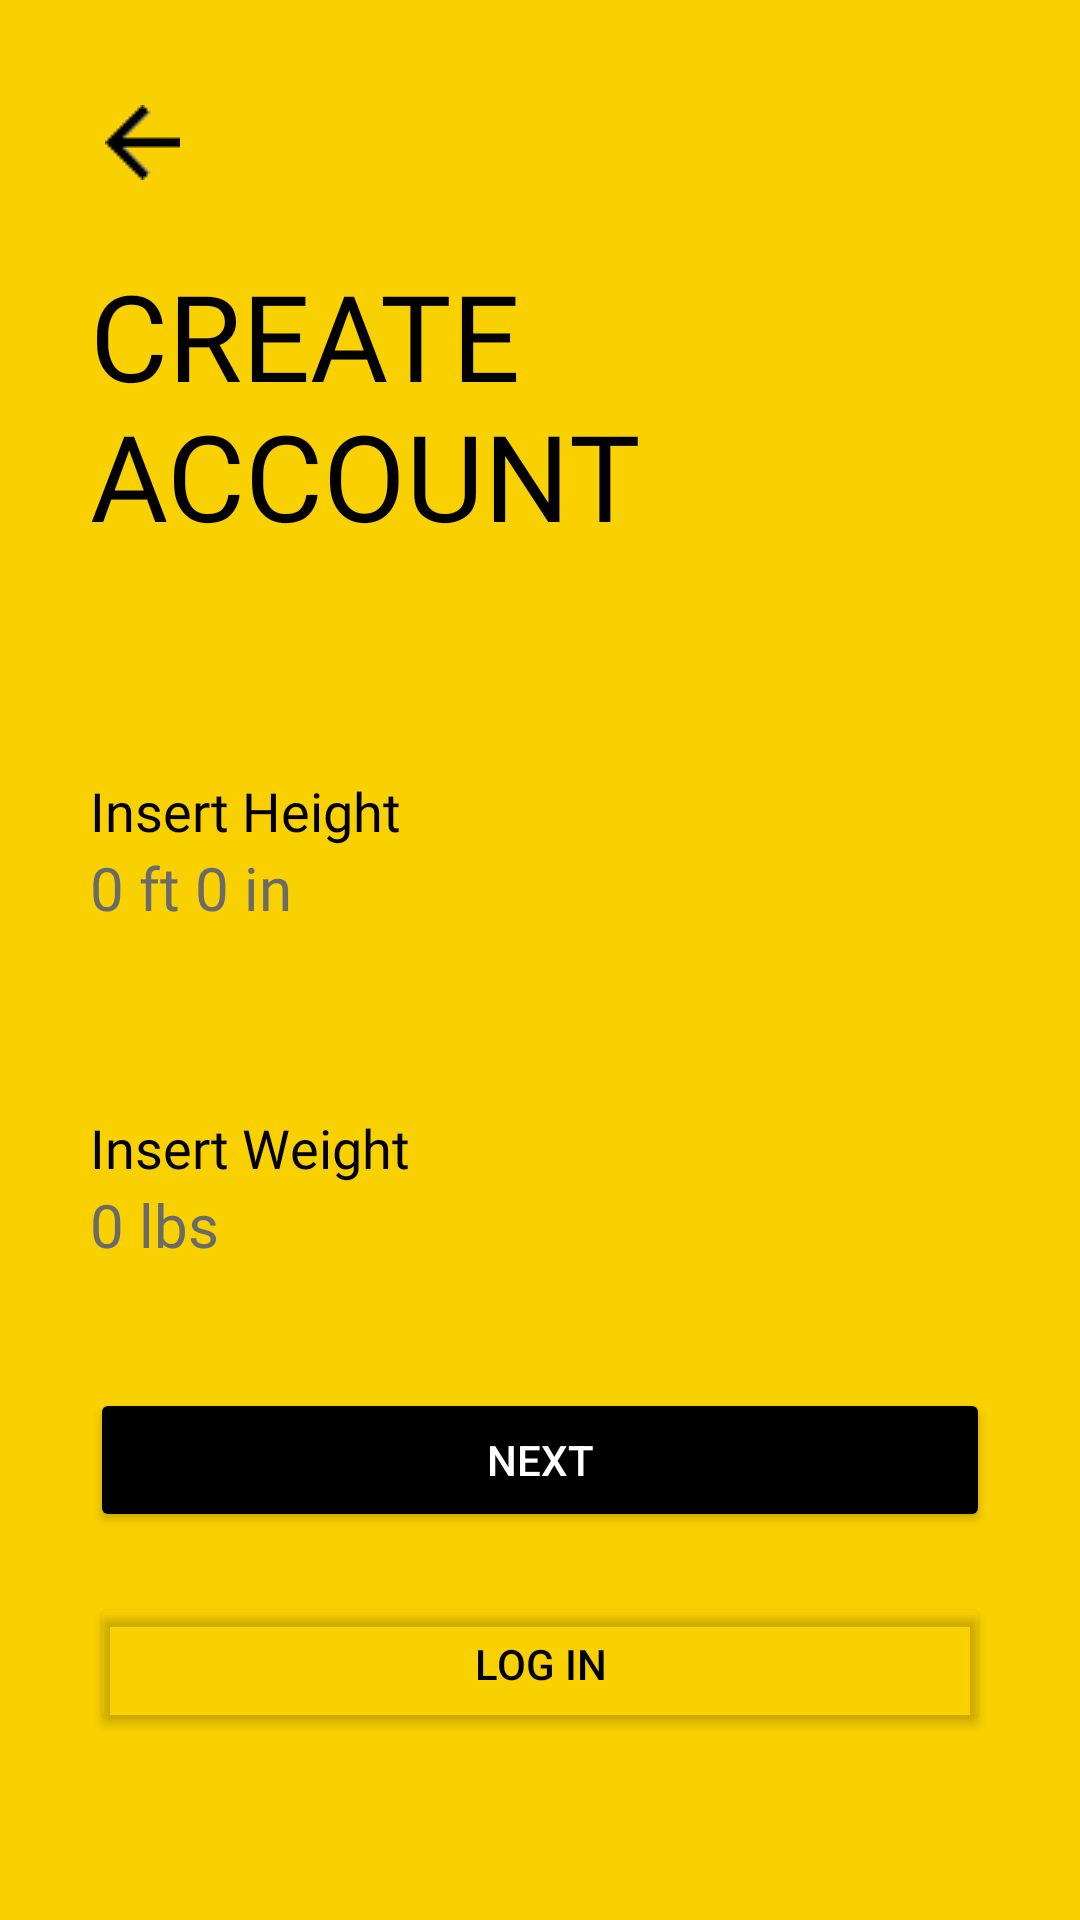

Named icons in this screenshot (1080 x 1920) and their centers, point (x, y):
general back: point (142, 142)
